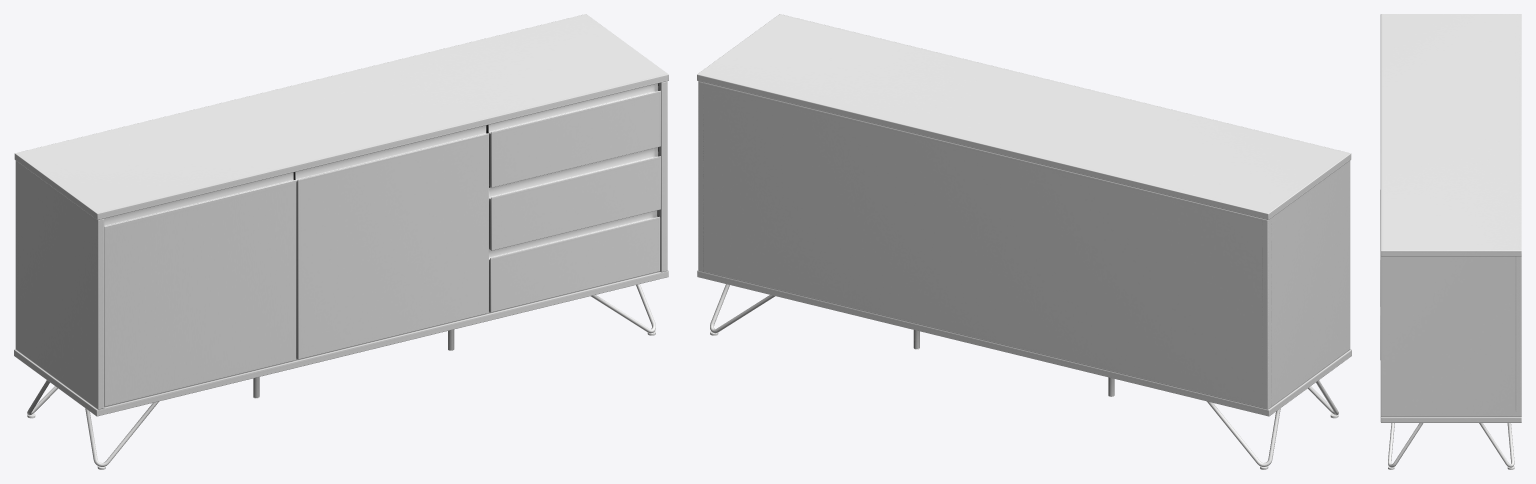
File: tv_table_white2.glb
The picture shows the model from 3 angles, left to right: view 1: azimuth 30°, elevation 25°; view 2: azimuth 150°, elevation 25°; view 3: azimuth 270°, elevation 25°; orthographic projection. The views are drawn at different scales.
Visible parts, largest first — view 1: WHITE_GLOSS, CHROME; view 2: WHITE_GLOSS, CHROME; view 3: WHITE_GLOSS, CHROME.
Boxes of the visible parts, x1,y1,x2,y2 form: WHITE_GLOSS: [14, 14, 668, 416]; CHROME: [27, 284, 655, 466]; WHITE_GLOSS: [697, 14, 1351, 416]; CHROME: [710, 284, 1338, 466]; WHITE_GLOSS: [1380, 14, 1521, 422]; CHROME: [1388, 423, 1514, 467].
Size of what is drawn, in the model's own units: 159 by 69.61 by 40.1.
3 materials, 2 textured.
